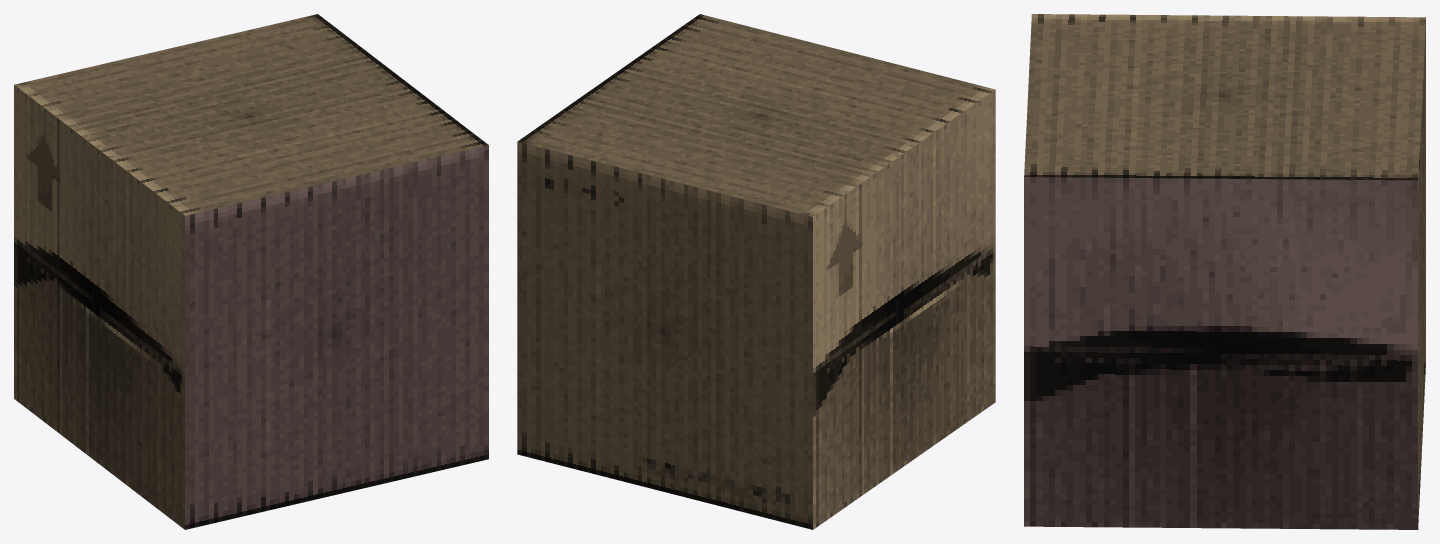
Rendered from primary_102.glb.
The picture shows the model from 3 angles, left to right: view 1: azimuth 30°, elevation 25°; view 2: azimuth 150°, elevation 25°; view 3: azimuth 270°, elevation 25°; orthographic projection. The views are drawn at different scales.
Parts seen in each view (by area): view 1: Object; view 2: Object; view 3: Object.
Part boxes in pixels (x1,y1,x2,y2): Object: (14,14,488,529); Object: (517,14,995,529); Object: (1024,14,1425,529).
Size of the model in its own units: 1.09 by 1.07 by 1.12.
7 materials, 7 textured.
